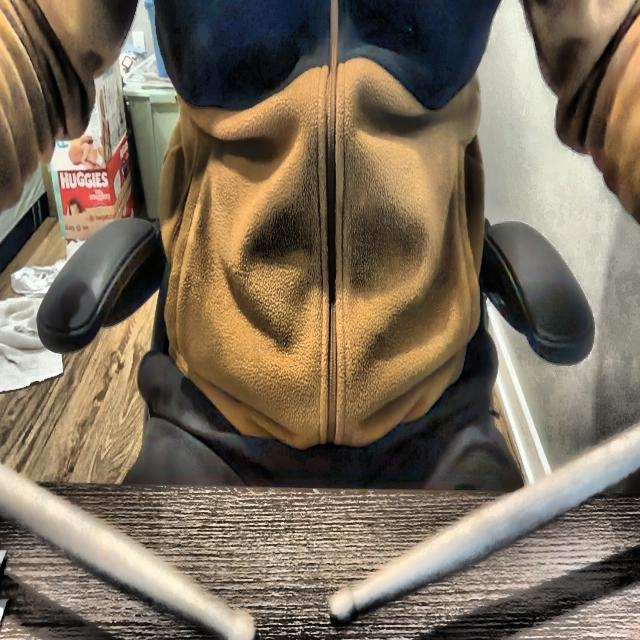Drumstick-Heads: (324, 587, 362, 635)
